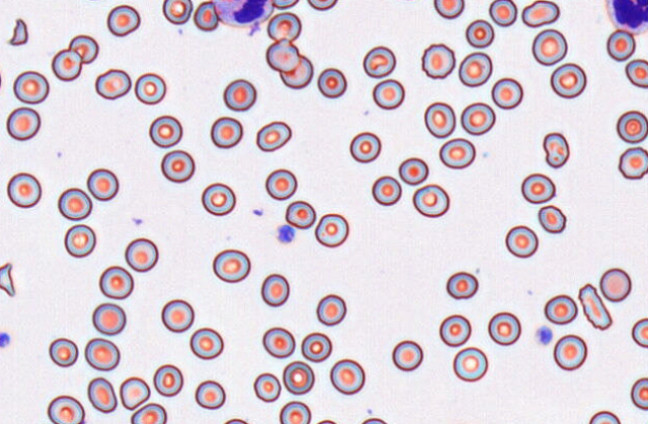GRAN: (212, 0, 277, 28), (602, 0, 648, 36)
PLT: (275, 223, 296, 245), (534, 325, 554, 347), (0, 331, 11, 349)
RBC: (578, 283, 612, 330), (531, 28, 567, 65), (329, 358, 365, 395), (550, 62, 586, 98), (452, 346, 488, 382), (212, 248, 250, 282), (6, 172, 41, 208), (412, 183, 449, 217), (421, 43, 455, 79), (458, 51, 492, 87), (13, 70, 49, 104), (84, 337, 120, 371), (553, 334, 587, 370), (279, 54, 313, 89), (98, 265, 133, 299), (124, 237, 158, 272), (265, 38, 299, 72), (487, 311, 521, 345), (6, 106, 40, 140), (201, 182, 235, 216), (314, 213, 348, 247), (57, 187, 92, 220), (460, 102, 495, 135), (160, 149, 195, 182), (439, 137, 475, 169), (255, 120, 291, 152), (94, 68, 131, 99), (424, 101, 455, 138), (362, 45, 396, 78), (92, 302, 126, 335), (149, 114, 182, 148), (282, 360, 314, 395), (599, 267, 631, 302), (87, 376, 117, 413), (47, 395, 85, 424), (161, 299, 194, 332), (223, 78, 256, 111), (505, 225, 538, 258), (106, 4, 140, 36), (189, 327, 223, 359), (616, 110, 648, 143), (262, 326, 295, 358), (86, 168, 118, 201), (267, 11, 301, 42), (119, 376, 150, 410), (521, 172, 555, 203), (521, 0, 559, 27), (134, 72, 166, 104), (265, 168, 297, 200), (491, 77, 523, 109), (439, 314, 471, 346), (210, 116, 242, 148), (391, 339, 423, 371), (51, 48, 82, 81), (64, 224, 95, 257), (372, 78, 404, 109), (349, 131, 381, 162), (618, 146, 648, 179), (544, 294, 577, 324), (316, 293, 346, 326), (301, 331, 332, 362), (153, 364, 183, 396), (606, 29, 636, 61), (260, 273, 289, 306), (194, 379, 225, 409), (371, 175, 401, 205), (48, 337, 78, 367), (285, 200, 316, 229), (317, 67, 346, 98), (446, 271, 478, 299), (68, 34, 98, 63), (465, 19, 494, 48), (537, 204, 566, 233), (398, 157, 428, 185), (253, 372, 281, 402), (130, 402, 167, 424), (279, 400, 311, 424), (488, 0, 517, 26), (193, 1, 218, 31), (162, 0, 192, 24), (625, 58, 648, 88), (630, 377, 648, 410), (433, 0, 464, 19), (631, 317, 647, 348), (588, 410, 621, 423), (307, 0, 338, 10), (271, 0, 299, 9), (358, 417, 388, 424), (222, 417, 250, 424), (383, 0, 426, 3), (313, 419, 338, 424), (0, 61, 3, 97), (78, 0, 110, 2)
Schistocyte: (543, 130, 570, 169), (0, 263, 18, 298), (9, 19, 30, 46)
